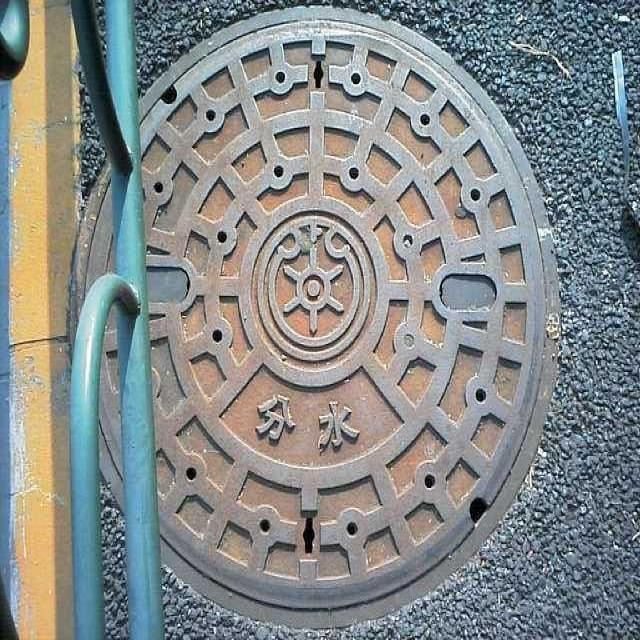manhole: (141, 8, 560, 626)
